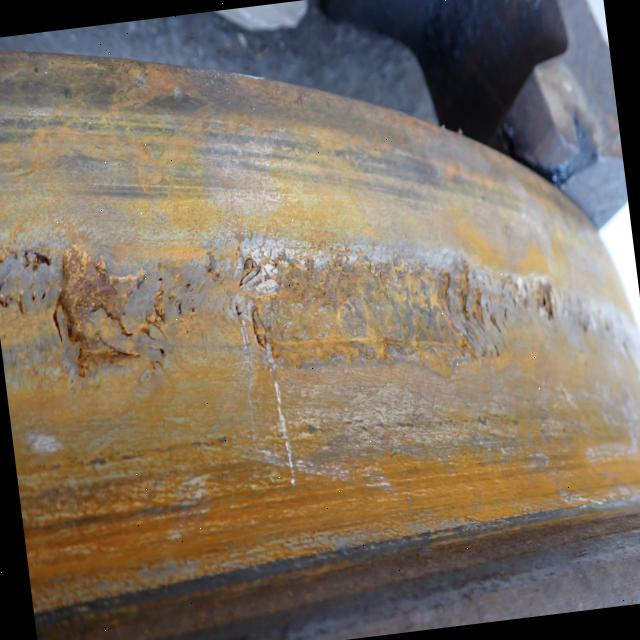Peeling: (1, 215, 204, 396), (278, 259, 477, 376), (237, 253, 286, 369), (533, 281, 559, 327)
